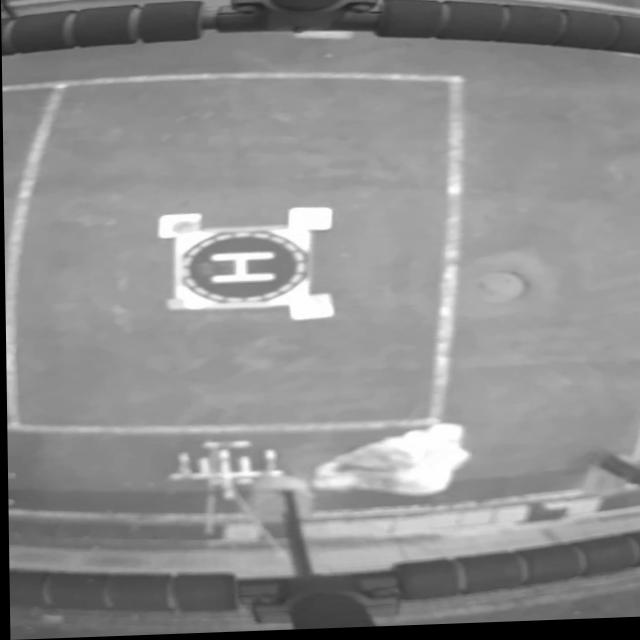Helipad: (207, 254, 272, 287)
